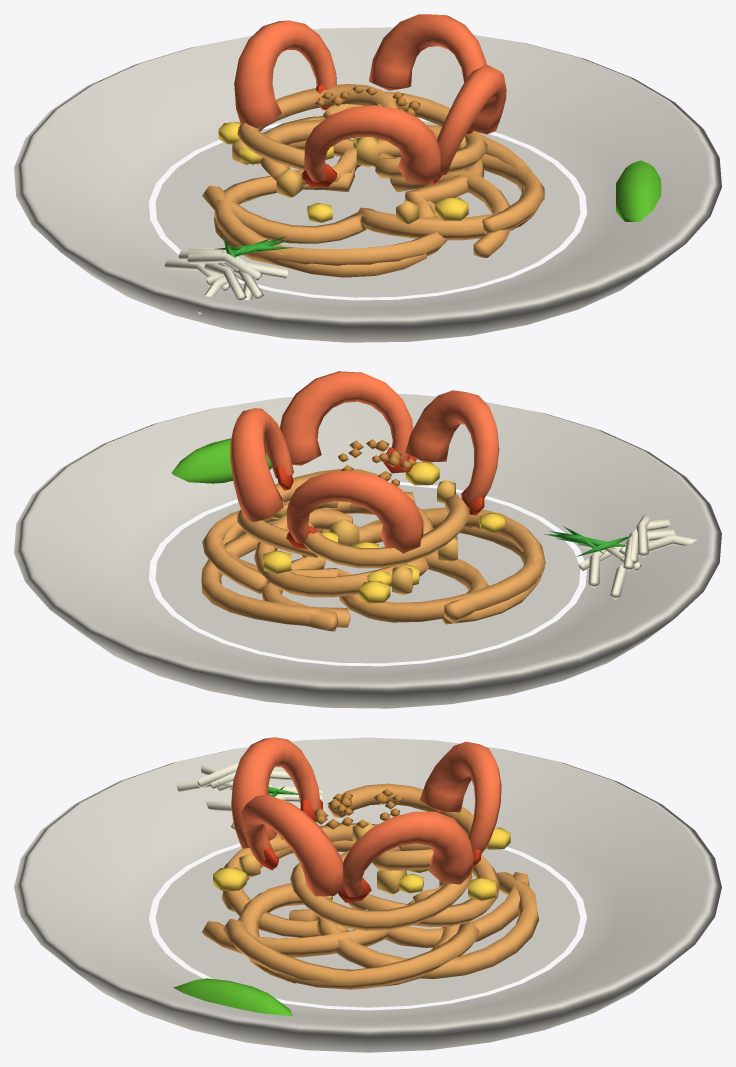
The picture shows the model from 3 angles, top to bottom: view 1: azimuth 30°, elevation 25°; view 2: azimuth 150°, elevation 25°; view 3: azimuth 270°, elevation 25°; orthographic projection.
Visible parts, largest first — view 1: plate, noodles (×10), plate_well, shrimp (×4), lime, sprouts (×2), tofu (×2), egg; view 2: plate, noodles (×10), plate_well, shrimp (×4), lime, egg (×3), tofu (×2); view 3: plate, noodles (×10), plate_well, shrimp (×4), lime, egg (×2), tofu.
Boxes of the visible parts, box(x1,y1,x2,y2) form: plate: box(14, 27, 721, 342); noodles (×10): box(202, 84, 544, 277); plate_well: box(155, 121, 580, 297); shrimp (×4): box(234, 14, 506, 185); lime: box(616, 160, 661, 221); sprouts (×2): box(187, 252, 261, 301); tofu (×2): box(276, 137, 378, 197); egg: box(435, 197, 468, 220); plate: box(14, 394, 721, 708); noodles (×10): box(201, 468, 545, 631); plate_well: box(155, 485, 580, 663); shrimp (×4): box(230, 371, 499, 553); lime: box(171, 438, 272, 483); egg (×3): box(263, 462, 439, 603); tofu (×2): box(329, 518, 412, 595); plate: box(14, 737, 721, 1052); noodles (×10): box(202, 783, 538, 989); plate_well: box(155, 846, 580, 1007); shrimp (×4): box(231, 737, 501, 897); lime: box(173, 978, 292, 1016); egg (×2): box(213, 867, 495, 900); tofu: box(377, 870, 406, 894).
Bounding box in the file's own units: 0.21 × 0.0579 × 0.21.
